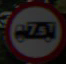Heavy Vehicles: (3, 4, 60, 52)
